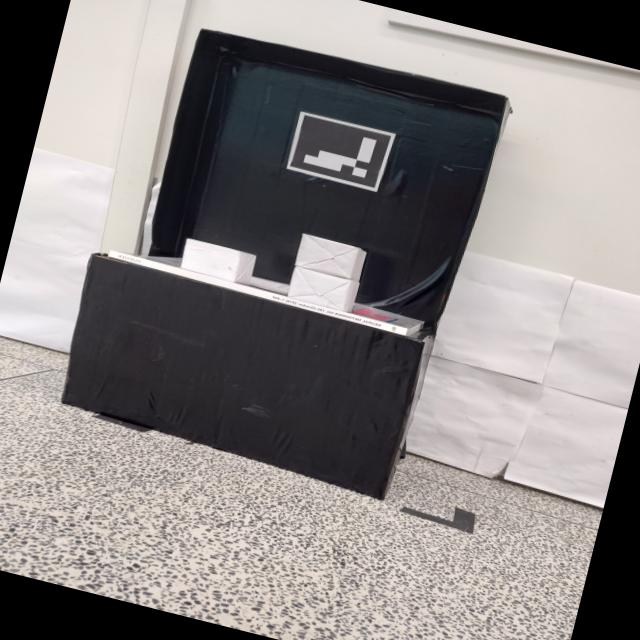bale: (176, 236, 258, 286), (292, 232, 368, 282), (284, 264, 360, 314)
